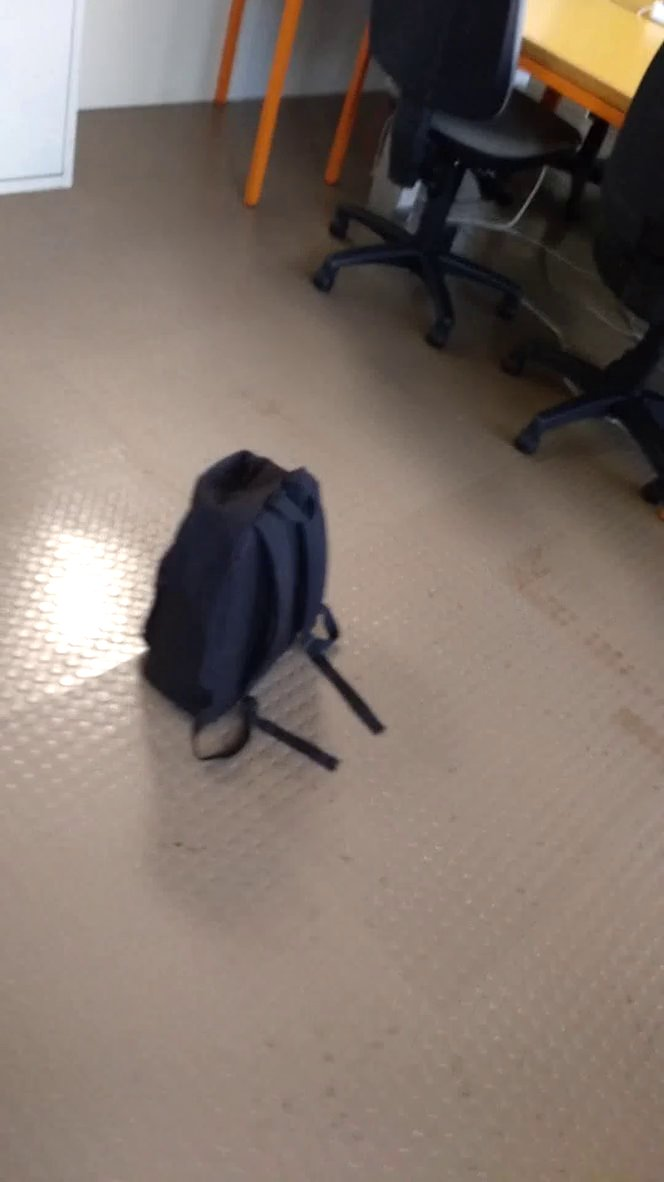bag: (123, 445, 402, 781)
